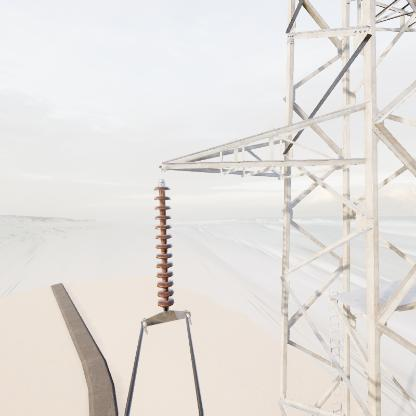insulator: (149, 181, 179, 312)
